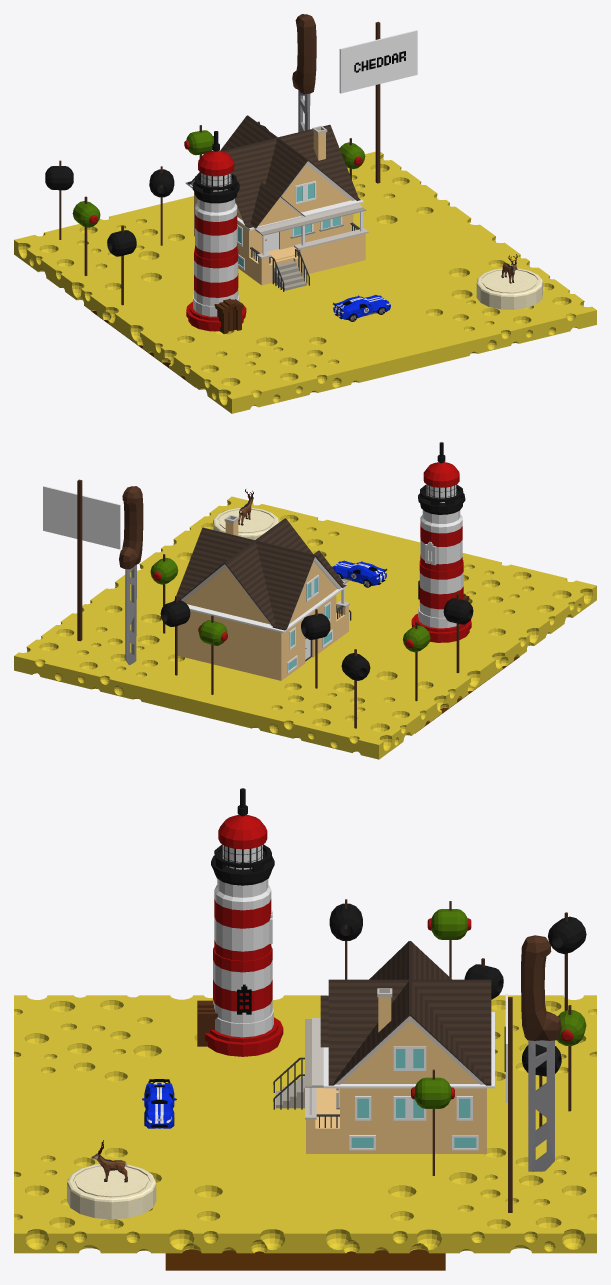
The picture shows the model from 3 angles, top to bottom: view 1: azimuth 30°, elevation 25°; view 2: azimuth 150°, elevation 25°; view 3: azimuth 270°, elevation 25°; orthographic projection. The views are drawn at different scales.
Parts seen in each view (by area): view 1: Cube.022, Cube.235, OBJRANDOM_LIGHTHOUSE, Cube.023, Cylinder.016, Cube.024, VEHICLES_RACING_CAR, Sphere.017, Sphere.016, Sphere.018, Sphere.020, Sphere.022 (+1 smaller); view 2: Cube.022, Cube.235, OBJRANDOM_LIGHTHOUSE, Cube.023, Cube.024, Cylinder.016, VEHICLES_RACING_CAR, Sphere.017, Sphere.020, Sphere.021, Sphere.016, Sphere.022 (+2 smaller); view 3: Cube.022, Cube.235, OBJRANDOM_LIGHTHOUSE, Cube.024, UNDERGROUND_ART_PIECE_VAN_GOGH, Cylinder.016, VEHICLES_RACING_CAR, Cube.023, Sphere.019, Sphere.016, Sphere.018, Sphere.017 (+3 smaller).
Boxes of the visible parts, x1,y1,x2,y2 form: Cube.022: (14,151,596,413); Cube.235: (185,115,368,291); OBJRANDOM_LIGHTHOUSE: (186,131,246,333); Cube.023: (339,21,417,183); Cylinder.016: (476,268,542,309); Cube.024: (292,14,316,132); VEHICLES_RACING_CAR: (333,295,390,321); Sphere.017: (107,225,136,305); Sphere.016: (45,160,73,239); Sphere.018: (72,196,100,275); Sphere.020: (149,166,174,245); Sphere.022: (184,125,213,158); Cube.022: (14,496,596,759); Cube.235: (173,515,351,680); OBJRANDOM_LIGHTHOUSE: (411,442,471,642); Cube.023: (43,479,120,641); Cube.024: (119,486,143,665); Cylinder.016: (213,508,278,539); VEHICLES_RACING_CAR: (332,560,386,587); Sphere.017: (443,593,473,672); Sphere.020: (301,609,330,688); Sphere.021: (160,596,190,675); Sphere.016: (341,649,370,728); Sphere.022: (198,615,227,694); Cube.022: (14,995,596,1253); Cube.235: (273,941,494,1153); OBJRANDOM_LIGHTHOUSE: (197,788,283,1056); Cube.024: (521,935,561,1171); UNDERGROUND_ART_PIECE_VAN_GOGH: (165,1249,445,1270); Cylinder.016: (67,1164,156,1219); VEHICLES_RACING_CAR: (142,1079,176,1128); Cube.023: (504,993,512,1212); Sphere.019: (411,1069,454,1175); Sphere.016: (548,912,586,1010); Sphere.018: (427,901,471,978); Sphere.017: (329,899,362,979).
Bounding box in the file's own units: 3917 × 2257 × 4000.
Materials: 42 (4 with a texture image).
